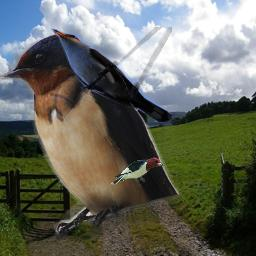Cuckoo: (50, 27, 172, 122)
Swallow: (0, 32, 181, 240)
Woodpecker: (109, 155, 165, 188)
